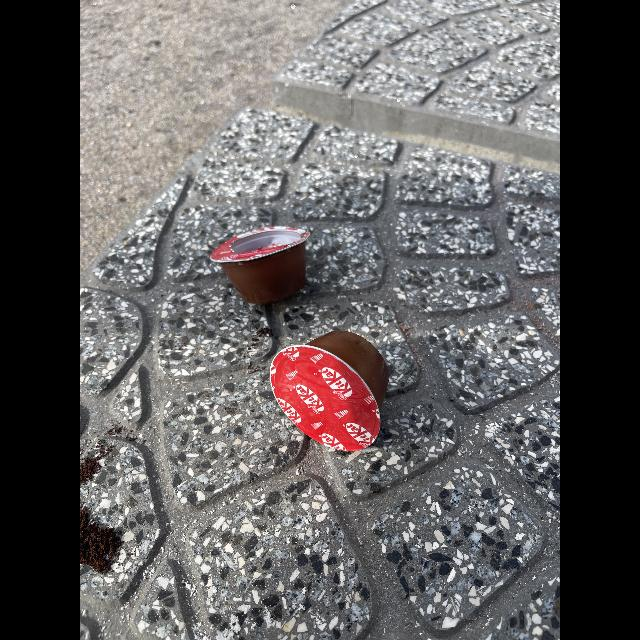damaged_capsule: (202, 214, 320, 310)
intact_capsule: (262, 318, 408, 468)
